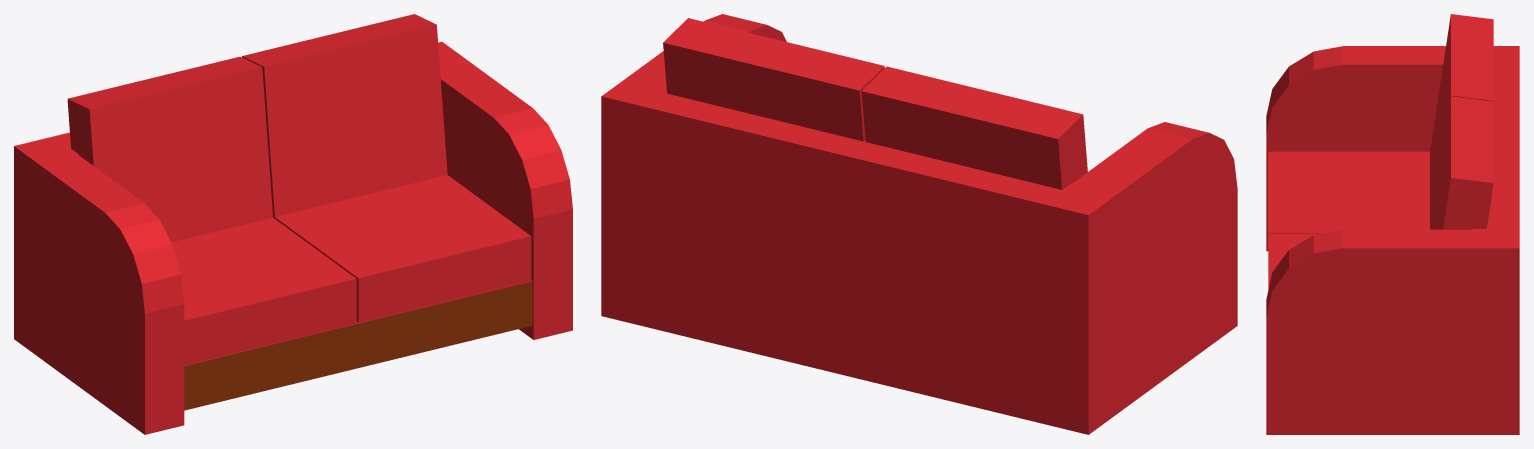
Rendered from Sofa1.fbx.
The picture shows the model from 3 angles, left to right: view 1: azimuth 30°, elevation 25°; view 2: azimuth 150°, elevation 25°; view 3: azimuth 270°, elevation 25°; orthographic projection. The views are drawn at different scales.
Parts seen in each view (by area): view 1: Sofa_05; view 2: Sofa_05; view 3: Sofa_05.
Part boxes in pixels (box(x1,y1,x2,y2)): Sofa_05: box(14, 14, 572, 434); Sofa_05: box(601, 14, 1237, 434); Sofa_05: box(1266, 14, 1519, 434).
Size of the model in its own units: 355 by 195 by 188.
